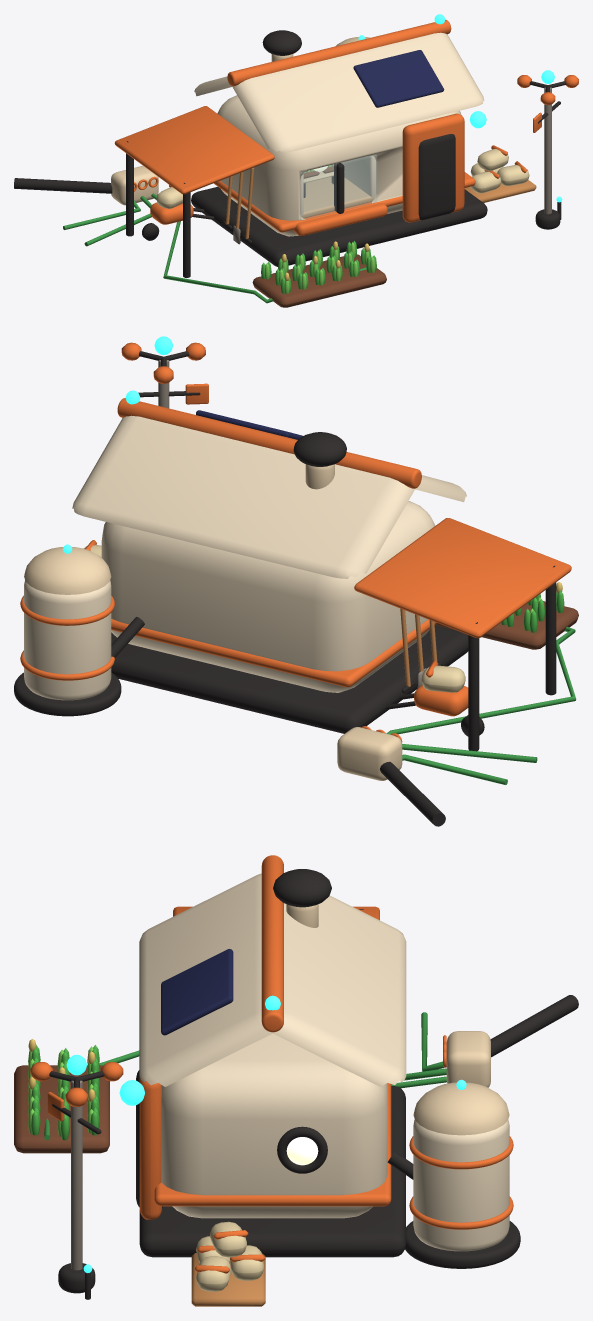
File: fieldstation.glb
The picture shows the model from 3 angles, top to bottom: view 1: azimuth 30°, elevation 25°; view 2: azimuth 150°, elevation 25°; view 3: azimuth 270°, elevation 25°; orthographic projection. The views are drawn at different scales.
Visible parts, largest first — view 1: Cube.018, Cube.001, Cube.020, Cube, Cube.012, Cube.019, Cube.016, Cube.017, Cube.038, Cylinder.013, Cube.003, Cube.013 (+17 smaller); view 2: Cube.018, Cube.001, Cube.020, Cube, Cylinder.019, Cylinder.013, Cube.015, Sphere.010, Cube.039, Cylinder.018, Cube.038, Sphere.008 (+12 smaller); view 3: Cube.018, Cube.001, Cube, Cylinder.019, Cube.038, Cube.019, Sphere.010, Cube.015, Cylinder.013, Cube.016, Cylinder.018, Cube.039 (+13 smaller).
Boxes of the visible parts, x1,y1,x2,y2 form: Cube.018: (194, 32, 484, 152); Cube.001: (217, 95, 461, 236); Cube.020: (114, 106, 274, 194); Cube: (191, 186, 487, 266); Cube.012: (300, 155, 377, 220); Cube.019: (353, 50, 444, 107); Cube.016: (402, 113, 464, 222); Cube.017: (418, 134, 455, 220); Cube.038: (252, 254, 386, 307); Cylinder.013: (227, 19, 451, 86); Cube.003: (301, 177, 374, 218); Cube.013: (293, 203, 387, 235); Cube.018: (72, 415, 466, 578); Cube.001: (101, 501, 435, 692); Cube.020: (354, 518, 571, 638); Cube: (111, 625, 468, 733); Cylinder.019: (24, 580, 111, 700); Cylinder.013: (117, 398, 421, 488); Cube.015: (111, 619, 437, 687); Sphere.010: (24, 547, 111, 594); Cube.039: (337, 727, 402, 780); Cylinder.018: (14, 672, 121, 716); Cube.038: (435, 601, 578, 649); Sphere.008: (293, 432, 346, 466); Cube.018: (139, 873, 406, 1086); Cube.001: (161, 1033, 387, 1218); Cube: (139, 1086, 405, 1257); Cylinder.019: (413, 1119, 509, 1251); Cube.038: (14, 1065, 109, 1153); Cube.019: (161, 949, 233, 1035); Sphere.010: (413, 1082, 509, 1135); Cube.015: (154, 1083, 391, 1206); Cylinder.013: (261, 855, 283, 1032); Cube.016: (139, 1077, 161, 1219); Cylinder.018: (405, 1221, 520, 1268); Cube.039: (446, 1031, 490, 1087).
Size of the model in its own units: 1.87 by 0.822 by 1.53.
